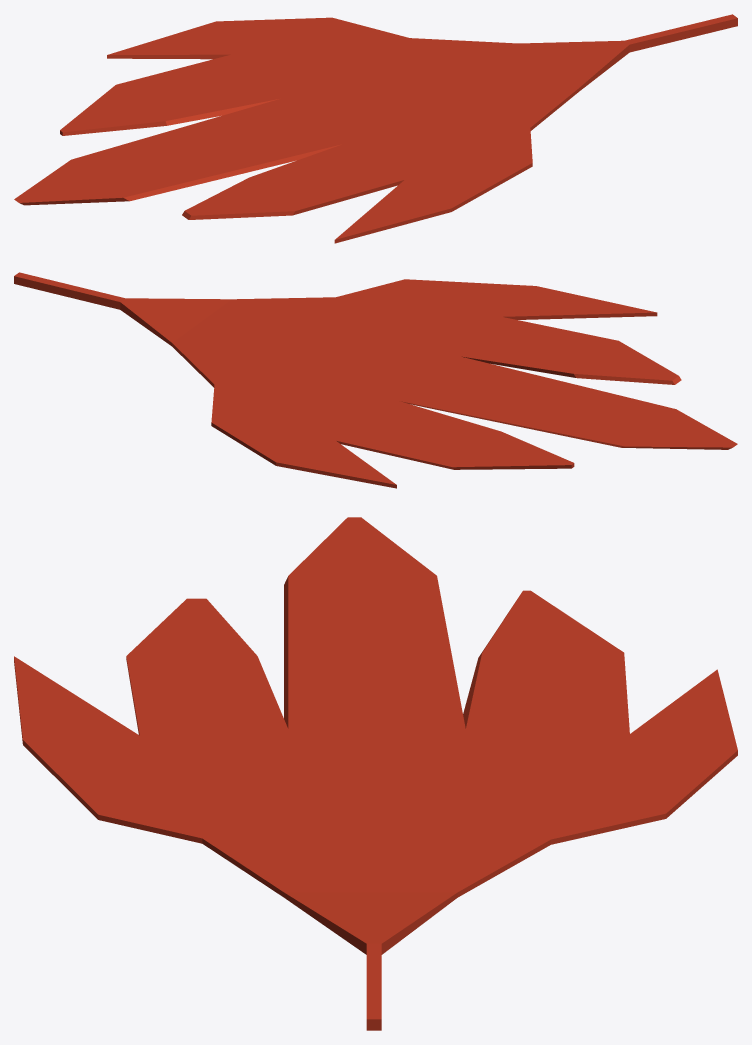
The model's file is LeafRed.fbx.
3 renders of one model, top to bottom at view 1: azimuth 30°, elevation 25°; view 2: azimuth 150°, elevation 25°; view 3: azimuth 270°, elevation 25°, orthographic. The views are drawn at different scales.
Parts seen in each view (by area): view 1: Cube; view 2: Cube; view 3: Cube.
Boxes of the visible parts, box(x1,y1,x2,y2) form: Cube: box(14, 14, 737, 243); Cube: box(14, 272, 737, 488); Cube: box(14, 517, 737, 1030).
Bounding box in the file's own units: 485 × 5.07 × 293.
